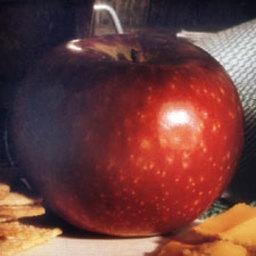apple: (11, 30, 245, 237)
